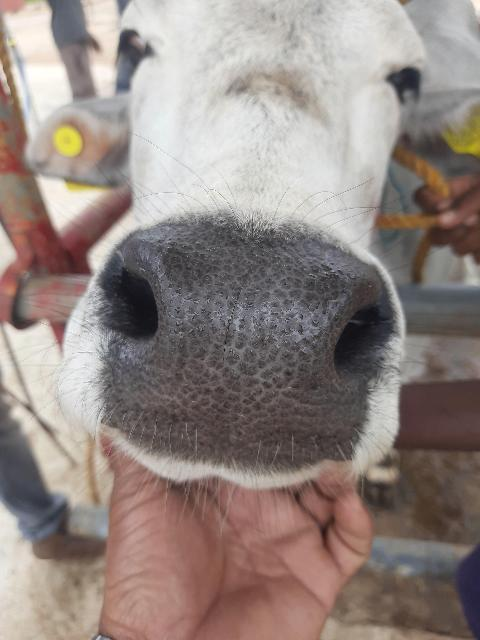Muzzle: (133, 236, 345, 457)
